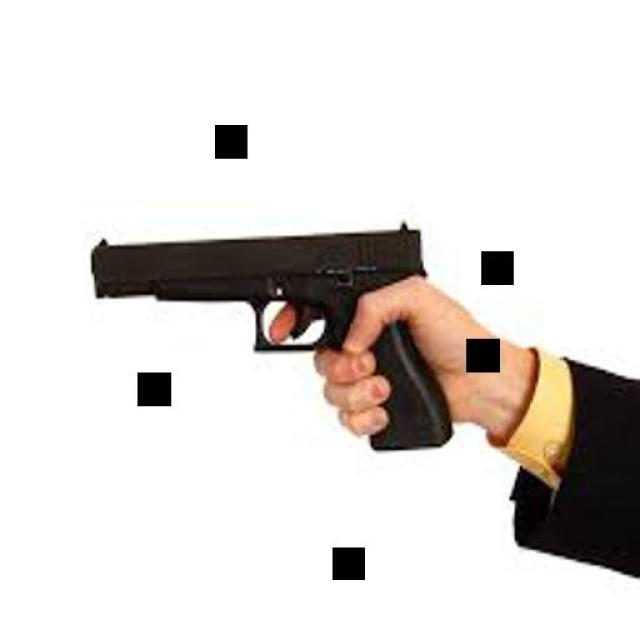gun: (79, 219, 466, 449)
